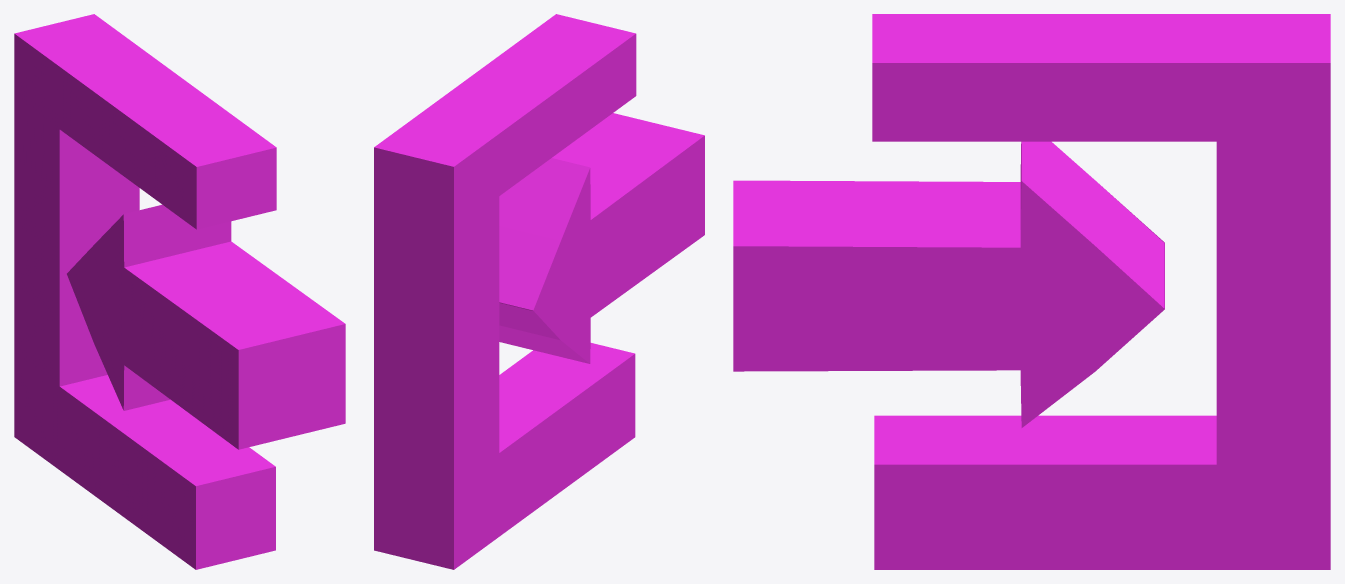
Rendered from login2.gltf.
The picture shows the model from 3 angles, left to right: view 1: azimuth 30°, elevation 25°; view 2: azimuth 150°, elevation 25°; view 3: azimuth 270°, elevation 25°; orthographic projection. The views are drawn at different scales.
Visible parts, largest first — view 1: Cube.001; view 2: Cube.001; view 3: Cube.001.
Boxes of the visible parts, x1,y1,x2,y2 form: Cube.001: (14, 14, 345, 569); Cube.001: (374, 14, 704, 569); Cube.001: (733, 14, 1330, 569).
Size of the model in its own units: 1.55 by 5.59 by 5.97.
